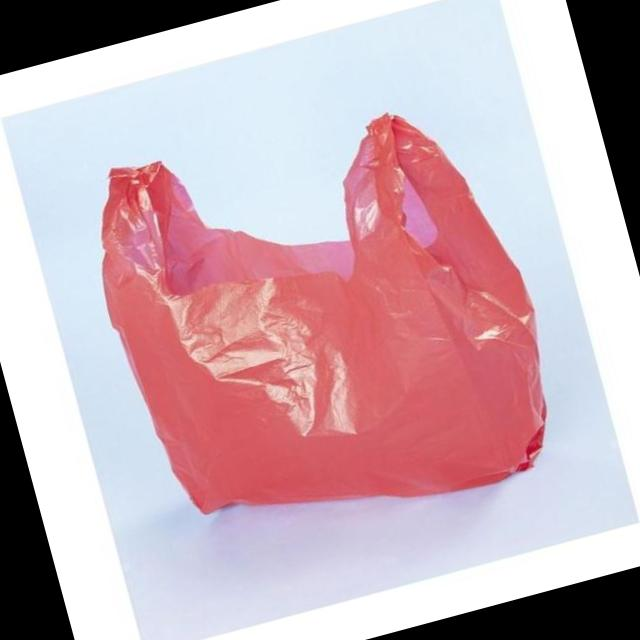KantongPlastik: (70, 70, 576, 570)
